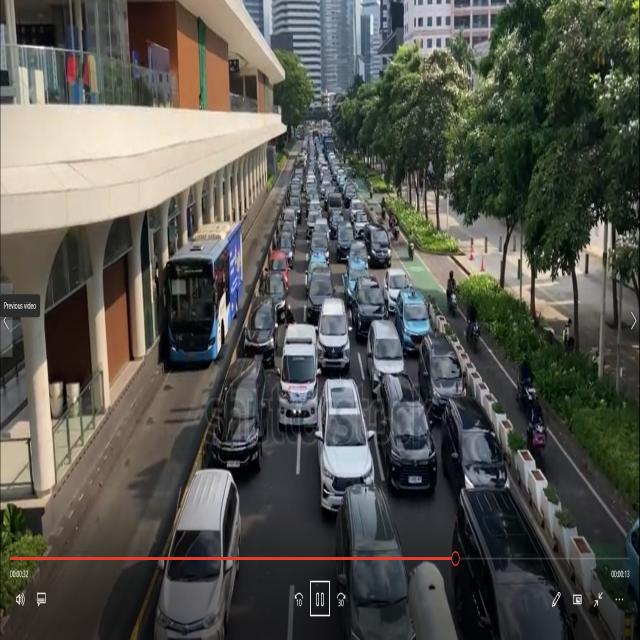Ambulance: (278, 319, 320, 430)
